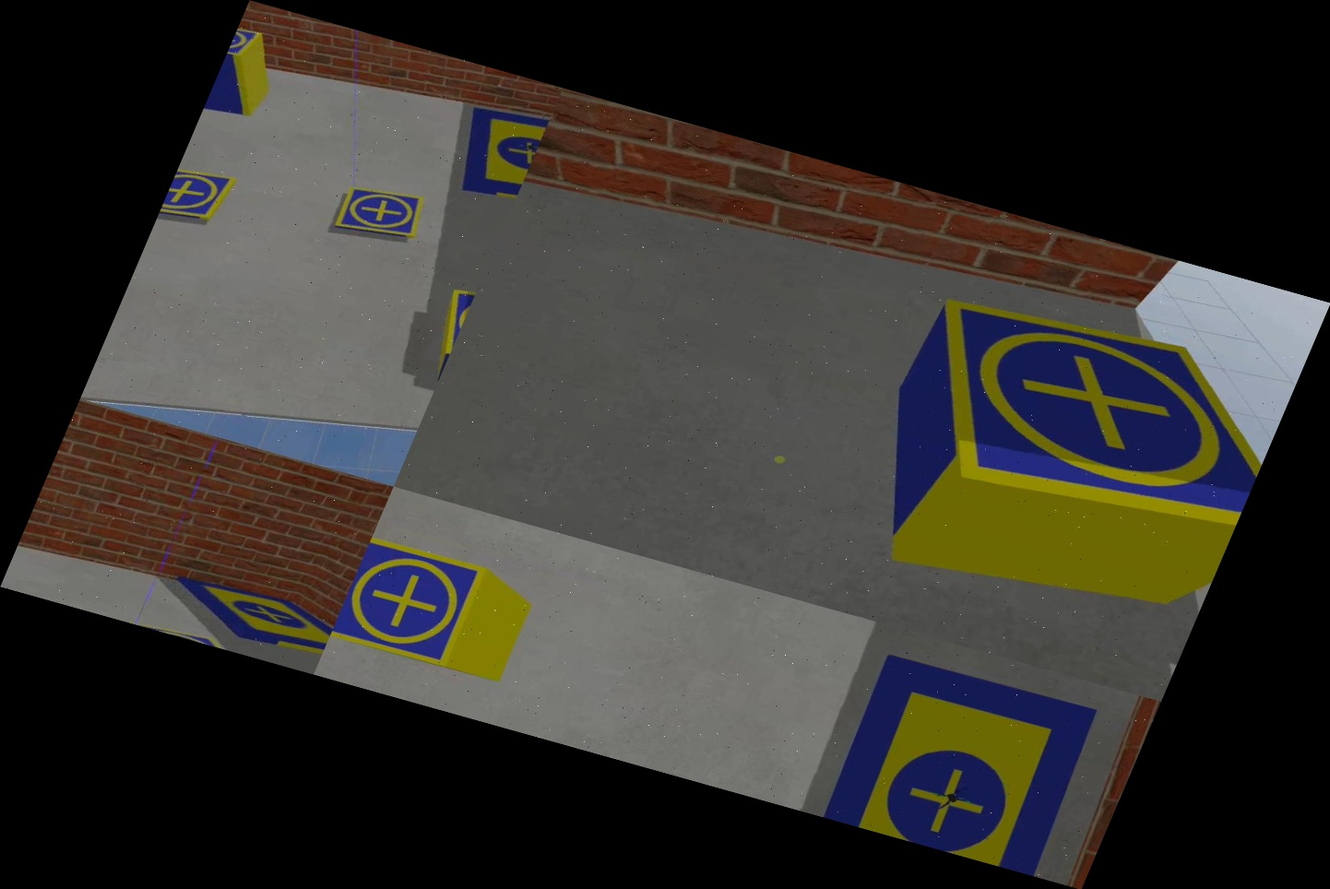large_base: (818, 648, 1110, 877), (162, 565, 341, 660), (446, 100, 550, 200)
small_base: (872, 280, 1297, 553), (329, 533, 490, 670), (328, 176, 433, 249), (158, 165, 236, 231), (222, 31, 262, 70)
